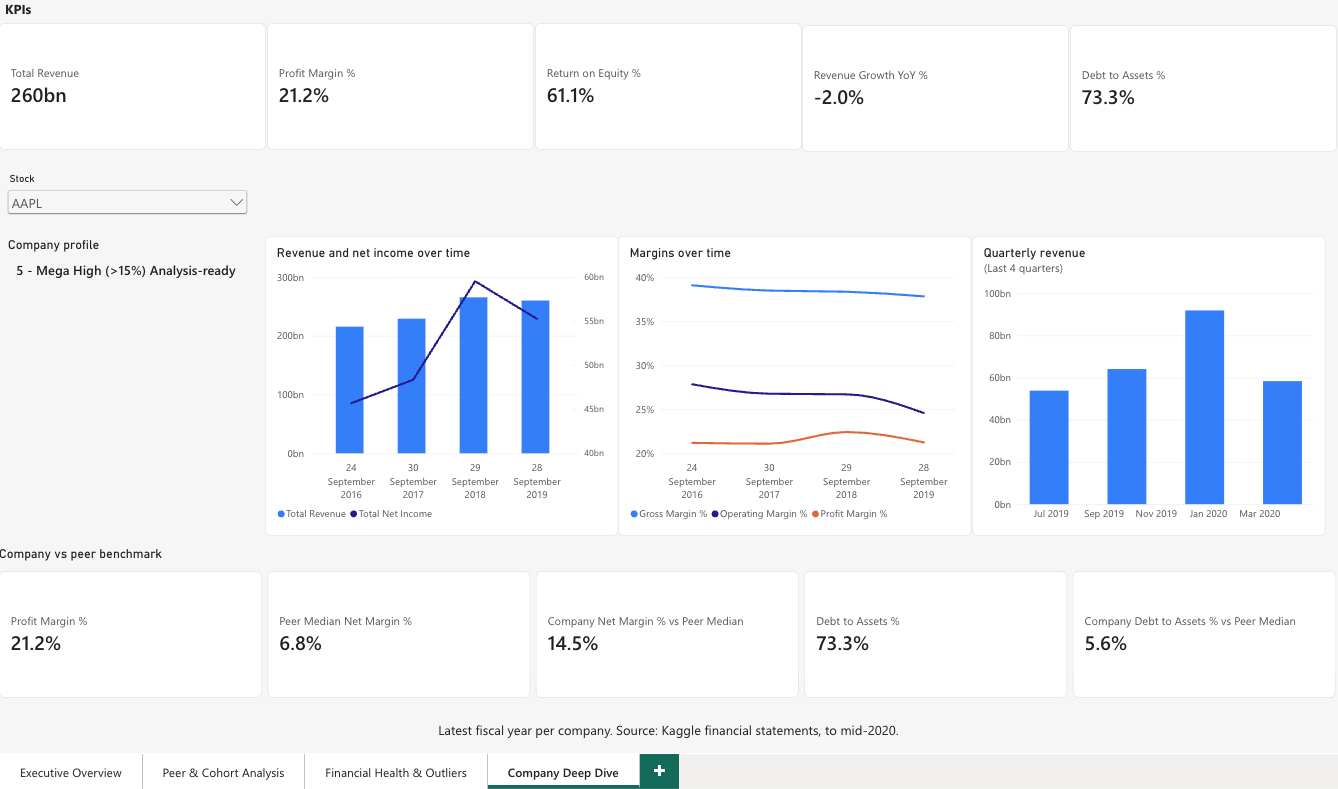

Layout of this report page (visuals, bound fields, positions):
{"tool":"powerbi","page":{"name":"Company Deep Dive","canvas":[1920,1080],"ordinal":3},"visuals":[{"type":"cardVisual","fields":{"Data":["fact_annual.Total Revenue"]},"box":[0,32.4,383.9,183],"z":0,"group":"g1"},{"type":"slicer","fields":{"Values":["dim_company.Stock"]},"box":[7.2,249.9,354.2,97.1],"z":0},{"type":"cardVisual","fields":{"Data":["fact_annual.Profit Margin %"]},"box":[384,32.4,383.9,183],"z":1000,"group":"g1"},{"type":"cardVisual","title":"Company profile","fields":{"Rows":["dim_company.RevenueSizeBand","dim_company.ProfitabilityTier","dim_company.DataCompletenessFlag"]},"box":[12.6,343.4,354.2,124],"z":1000},{"type":"cardVisual","fields":{"Data":["fact_annual.Return on Equity %"]},"box":[768.1,32.4,383.9,183],"z":2000,"group":"g1"},{"type":"lineClusteredColumnComboChart","title":"Revenue and net income over time","fields":{"Category":["fact_annual.EndDate"],"Y":["fact_annual.Total Revenue"],"Y2":["fact_annual.Total Net Income"]},"box":[381.1,338.5,507,429.7],"z":2000},{"type":"group","id":"g1","title":"Group 1","box":[0,32.4,1920,185.2],"z":3000,"group":"g2"},{"type":"cardVisual","fields":{"Data":["fact_annual.Revenue Growth YoY %"]},"box":[1152.1,34.6,383.9,183],"z":3000,"group":"g1"},{"type":"cardVisual","fields":{"Data":["fact_annual.Debt to Assets %"]},"box":[1536.1,34.6,383.9,183],"z":4000,"group":"g1"},{"type":"textbox","box":[0,1033.7,1920,27],"z":4000},{"type":"lineChart","title":"Margins over time","fields":{"Category":["fact_annual.EndDate"],"Y":["fact_annual.Gross Margin %","fact_annual.Operating Margin %","fact_annual.Profit Margin %"]},"box":[888.1,338.5,507,429.7],"z":5000},{"type":"columnChart","title":"Quarterly revenue","fields":{"Category":["fact_quarterly.EndDate"],"Y":["Sum(fact_quarterly.TotalRevenue)"]},"box":[1395,338.5,507,429.7],"z":6000},{"type":"cardVisual","title":"  Company vs peer benchmark","fields":{"Data":["fact_annual.Profit Margin %","fact_annual.Peer Median Net Margin %","fact_annual.Company Net Margin % vs Peer Median","fact_annual.Debt to Assets %","fact_annual.Company Debt to Assets % vs Peer Median"]},"box":[0,786.3,1920,215.7],"z":7000},{"type":"textbox","box":[9,0,84.5,34.2],"z":8000,"group":"g2"},{"type":"group","id":"g2","title":"Group 2","box":[0,0,1920,217.5],"z":8001}]}

Visuals, with their boxes on the page's 1920x1080 design canvas (x1, y1, x2, y2). These are canvas units, not pixel positions in the 1338x789 screenshot, which may show the page scaled, cropped or inside an application window:
cardVisual - fact_annual.Total Revenue: 0, 32, 384, 215
slicer - dim_company.Stock: 7, 250, 361, 347
cardVisual - fact_annual.Profit Margin %: 384, 32, 768, 215
"Company profile" cardVisual: 13, 343, 367, 467
cardVisual - fact_annual.Return on Equity %: 768, 32, 1152, 215
"Revenue and net income over time" lineClusteredColumnComboChart: 381, 338, 888, 768
"Group 1" group: 0, 32, 1920, 218
cardVisual - fact_annual.Revenue Growth YoY %: 1152, 35, 1536, 218
cardVisual - fact_annual.Debt to Assets %: 1536, 35, 1920, 218
textbox: 0, 1034, 1920, 1061
"Margins over time" lineChart: 888, 338, 1395, 768
"Quarterly revenue" columnChart: 1395, 338, 1902, 768
"  Company vs peer benchmark" cardVisual: 0, 786, 1920, 1002
textbox: 9, 0, 94, 34
"Group 2" group: 0, 0, 1920, 218
